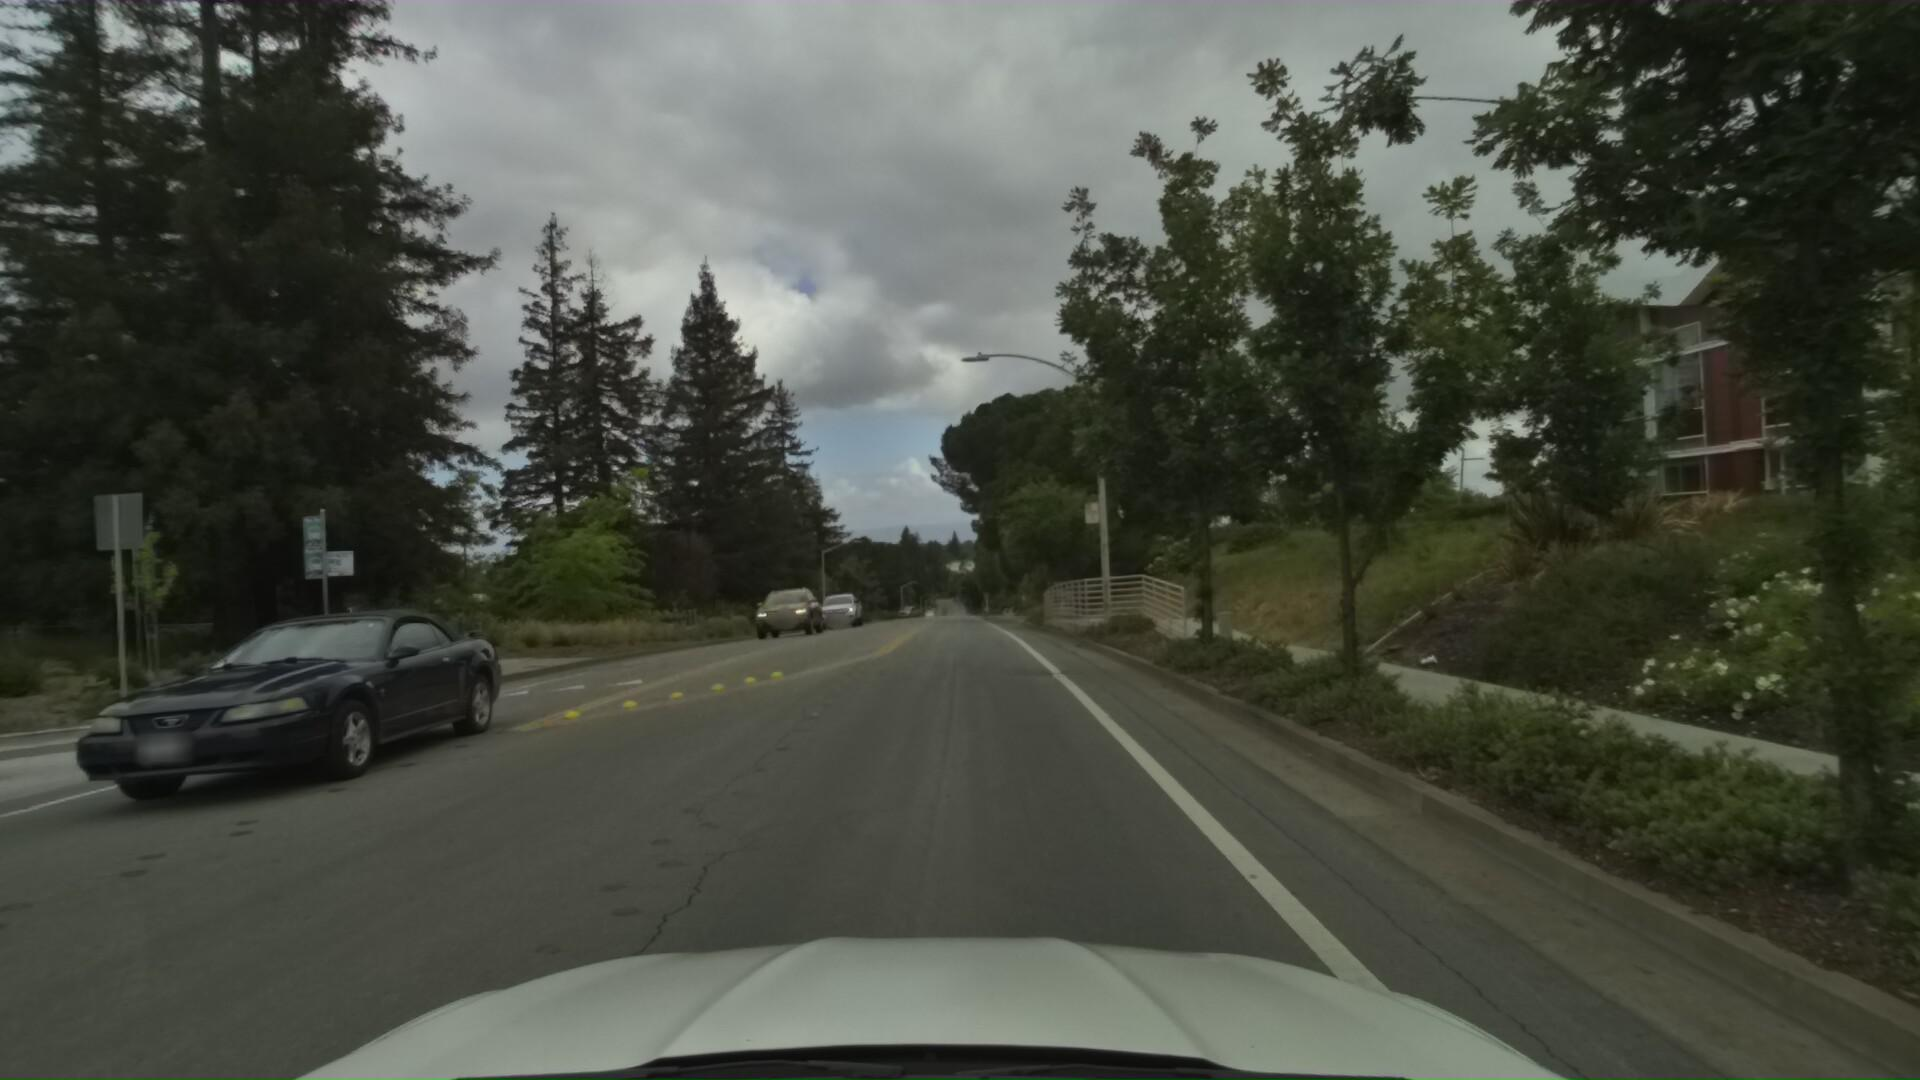car: (0, 595, 505, 862), (748, 576, 822, 636), (814, 583, 862, 626)
